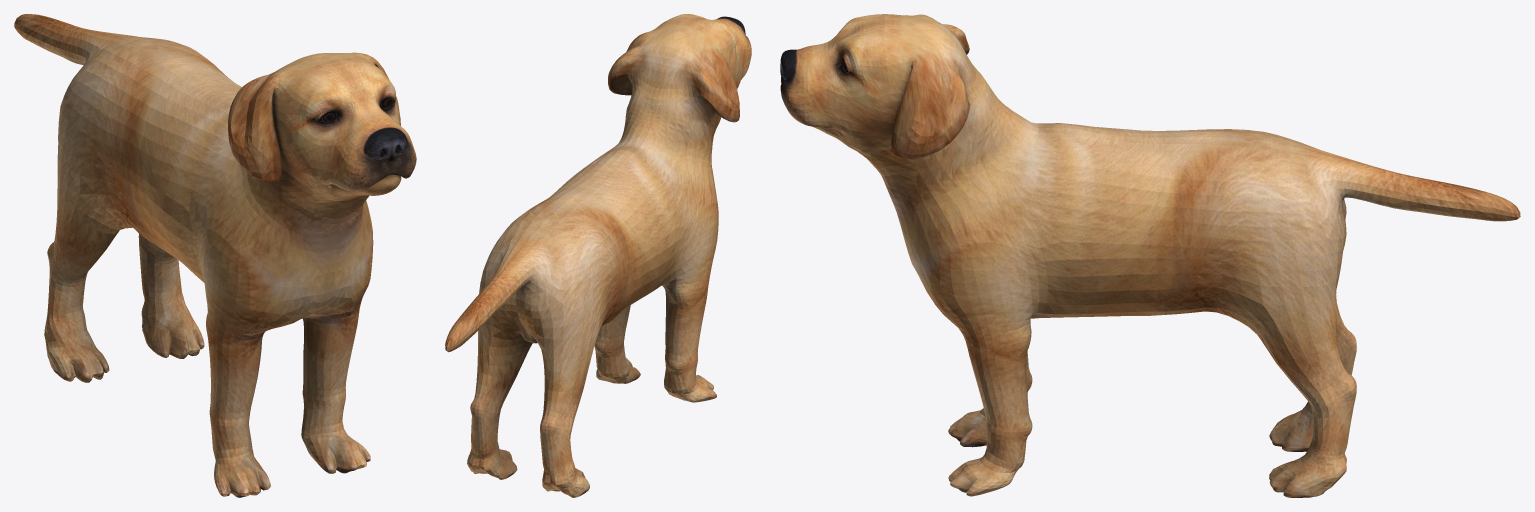
The model's file is 3d_dog_cute.glb.
The picture shows the model from 3 angles, left to right: view 1: azimuth 30°, elevation 25°; view 2: azimuth 150°, elevation 25°; view 3: azimuth 270°, elevation 25°; orthographic projection. The views are drawn at different scales.
Bounding box in the file's own units: 49.62 × 132 × 199.
1 material, 1 textured.
